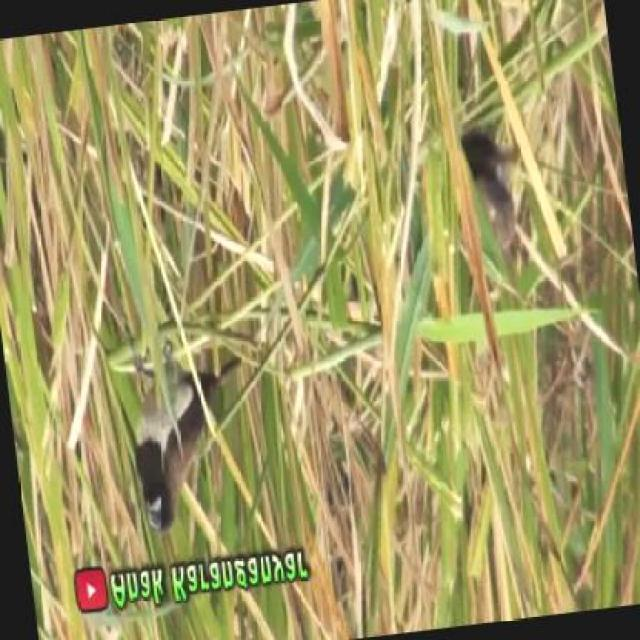Bird: (114, 336, 229, 534), (451, 122, 529, 234)
